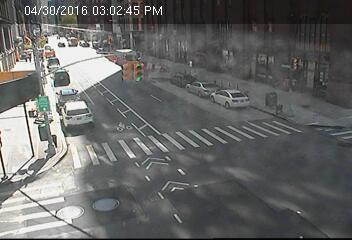neg: (50, 127, 77, 163), (174, 125, 199, 159), (17, 82, 40, 112), (184, 58, 205, 87), (70, 15, 86, 36), (131, 10, 146, 29), (98, 44, 111, 61)
